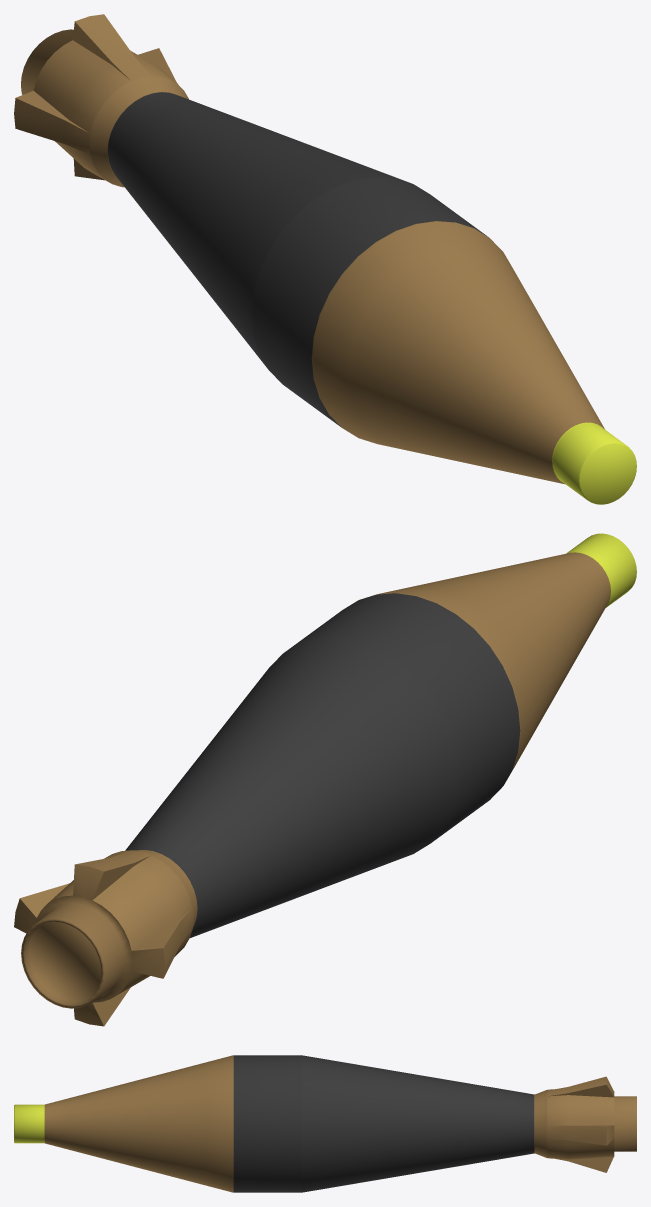
File: bom.fbx
3 renders of one model, top to bottom at view 1: azimuth 30°, elevation 25°; view 2: azimuth 150°, elevation 25°; view 3: azimuth 270°, elevation 25°, orthographic. The views are drawn at different scales.
Visible parts, largest first — view 1: rocket; view 2: rocket; view 3: rocket.
Boxes of the visible parts, x1,y1,x2,y2 form: rocket: [14, 14, 636, 504]; rocket: [14, 533, 636, 1026]; rocket: [14, 1055, 636, 1192].
Bounding box in the file's own units: 41.48 × 41.48 × 188.
